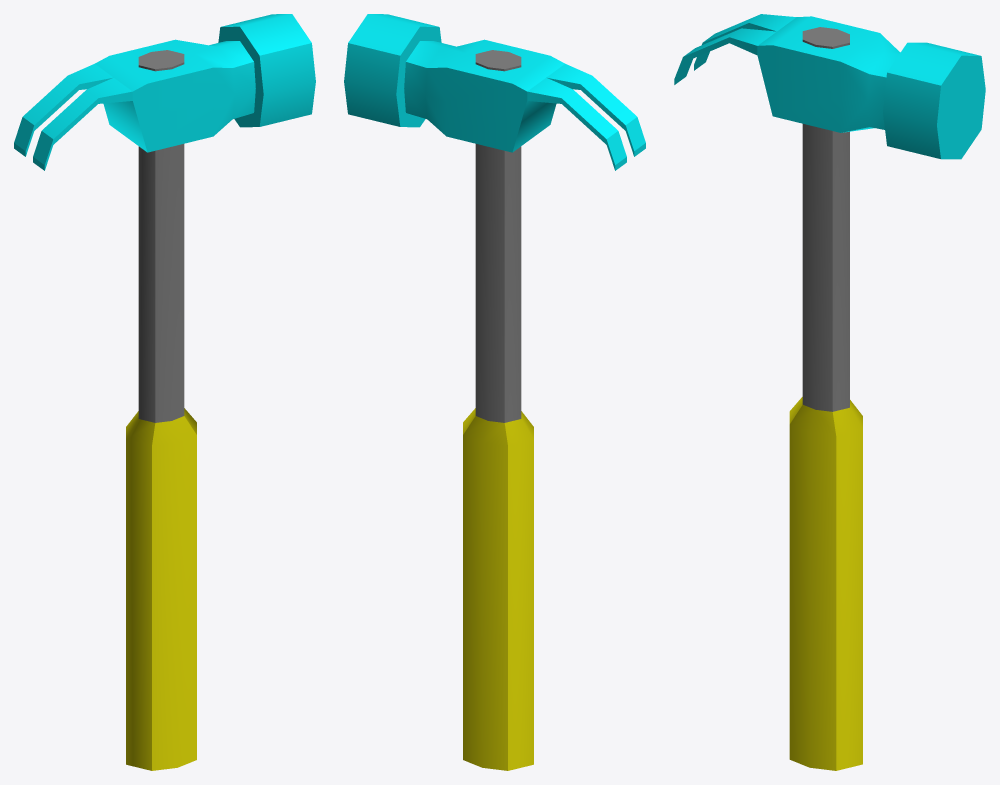
File: Texture_Hammer.obj
3 views of the same model, side by side, from view 1: azimuth 30°, elevation 25°; view 2: azimuth 150°, elevation 25°; view 3: azimuth 330°, elevation 25° (orthographic). The views are drawn at different scales.
Parts seen in each view (by area): view 1: pCube3; view 2: pCube3; view 3: pCube3.
Part boxes in pixels (x1=…): pCube3: x1=14, y1=14, x2=315, y2=770; pCube3: x1=344, y1=14, x2=645, y2=770; pCube3: x1=674, y1=14, x2=985, y2=770.
Bounding box in the file's own units: 5.84 × 15.07 × 1.82.
